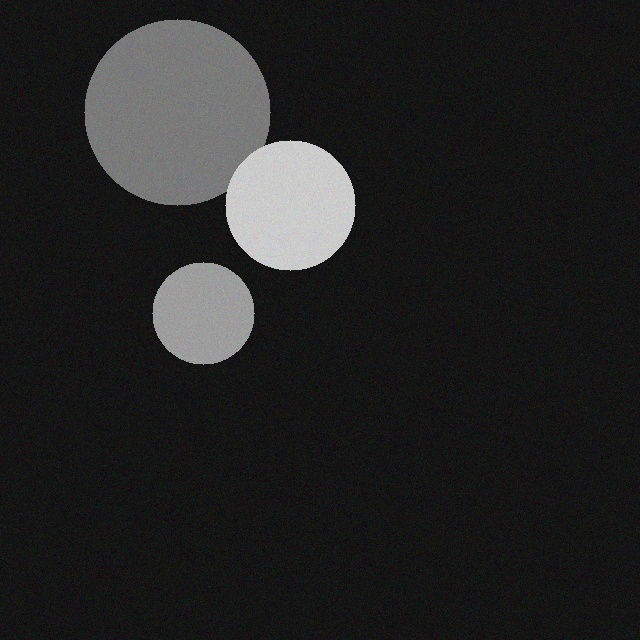circle: (74, 32, 260, 218), (215, 153, 345, 283), (142, 275, 244, 377)
